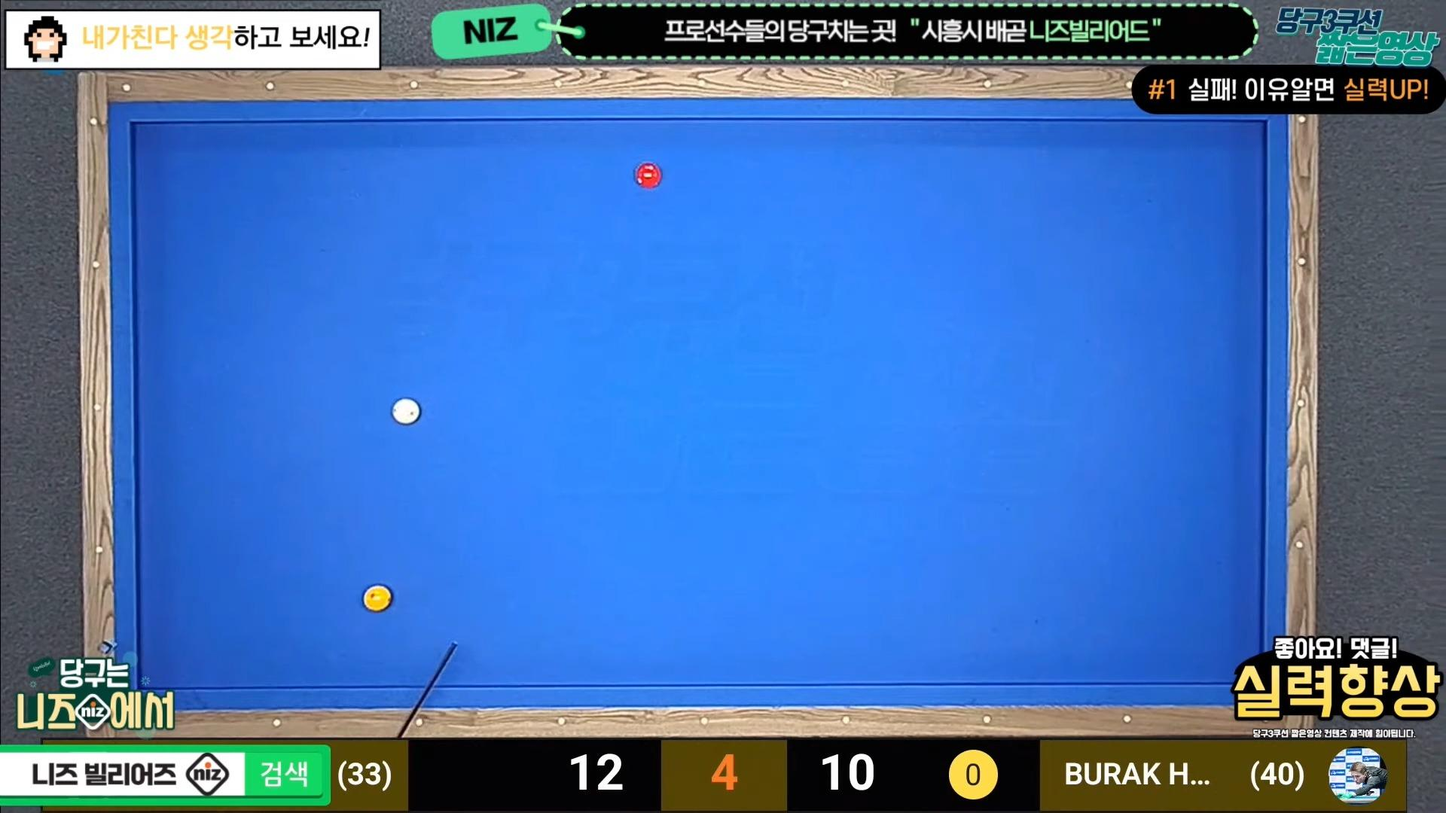-billiard-ball: (362, 583, 392, 613), (390, 397, 420, 425)
Red: (634, 164, 666, 191)
White: (389, 397, 425, 425)
Yellow: (362, 584, 397, 612)
